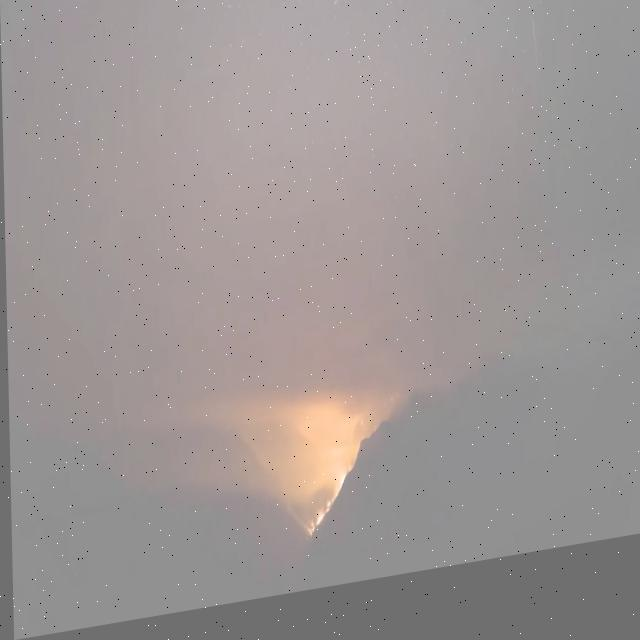Fire: (304, 482, 346, 546)
